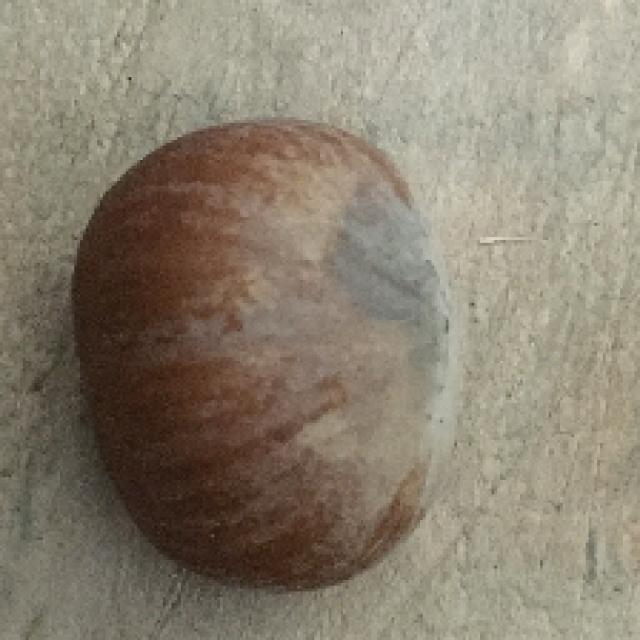qualityHazelnut: (75, 128, 454, 583)
